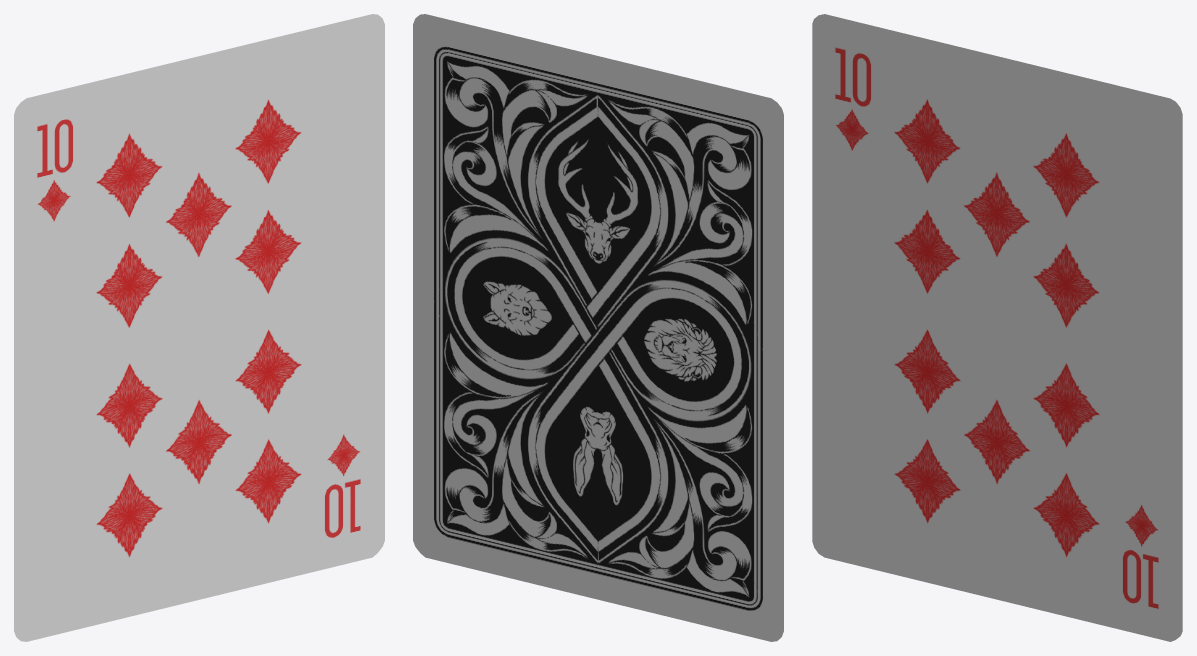
The picture shows the model from 3 angles, left to right: view 1: azimuth 30°, elevation 25°; view 2: azimuth 150°, elevation 25°; view 3: azimuth 330°, elevation 25°; orthographic projection.
Visible parts, largest first — view 1: Node; view 2: Node; view 3: Node.
Boxes of the visible parts, box(x1,y1,x2,y2) form: Node: box(14, 14, 384, 641); Node: box(413, 14, 783, 641); Node: box(812, 14, 1182, 641).
Size of the model in its own units: 1.5 by 2.1 by 7.08e-05.
Materials: 1 (1 with a texture image).
